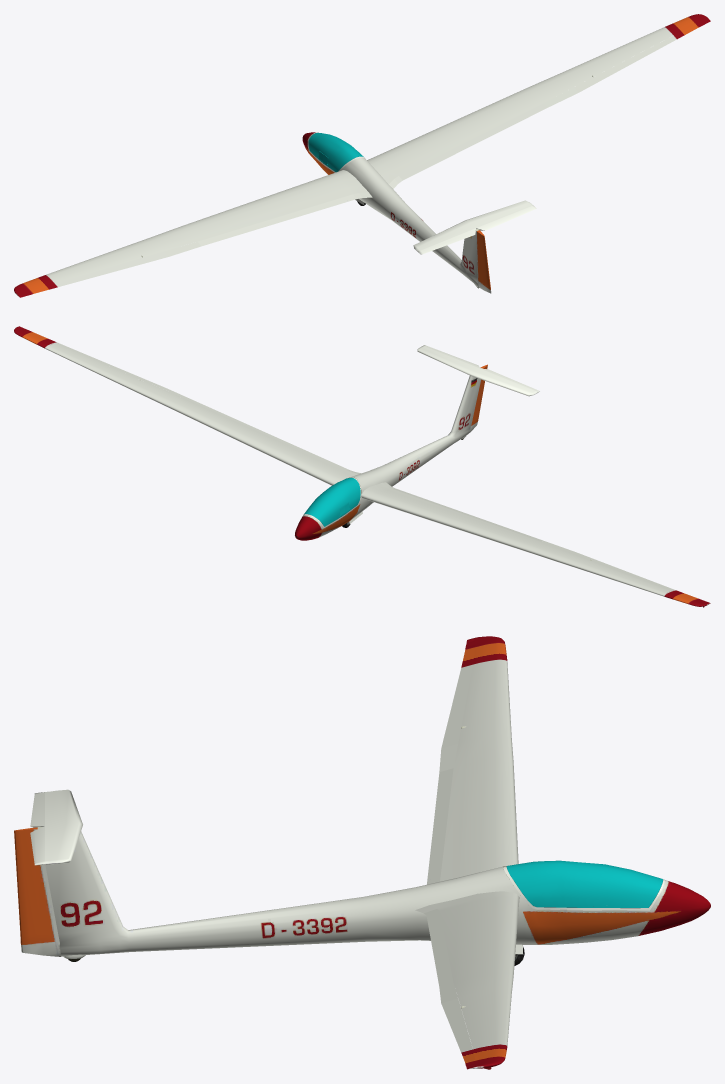
Rendered from LS4a_stat.gltf.
The picture shows the model from 3 angles, top to bottom: view 1: azimuth 30°, elevation 25°; view 2: azimuth 150°, elevation 25°; view 3: azimuth 270°, elevation 25°; orthographic projection. The views are drawn at different scales.
Visible parts, largest first — view 1: node1, node9, node8, node11; view 2: node1, node9, node8, node11; view 3: node9, node1, node11, node8.
Boxes of the visible parts, left/top/right/bottom form: node1: left=14, top=14, right=710, bottom=297; node9: left=141, top=75, right=593, bottom=293; node8: left=308, top=133, right=536, bottom=287; node11: left=308, top=132, right=363, bottom=172; node1: left=14, top=326, right=710, bottom=606; node9: left=140, top=364, right=704, bottom=607; node8: left=303, top=345, right=539, bottom=527; node11: left=304, top=477, right=360, bottom=526; node9: left=14, top=726, right=710, bottom=1069; node1: left=415, top=636, right=519, bottom=1069; node11: left=506, top=860, right=662, bottom=907; node8: left=30, top=789, right=665, bottom=958.
Size of the model in its own units: 14.81 by 2.3 by 6.9.
